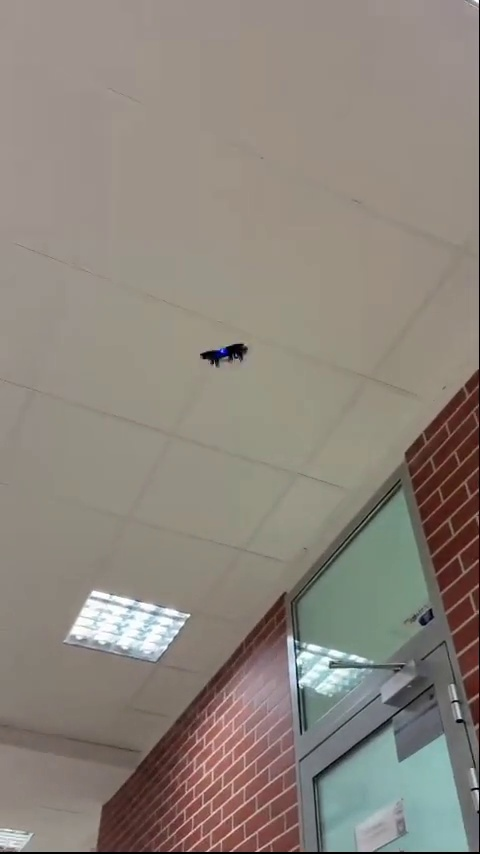drone: (200, 340, 251, 372)
